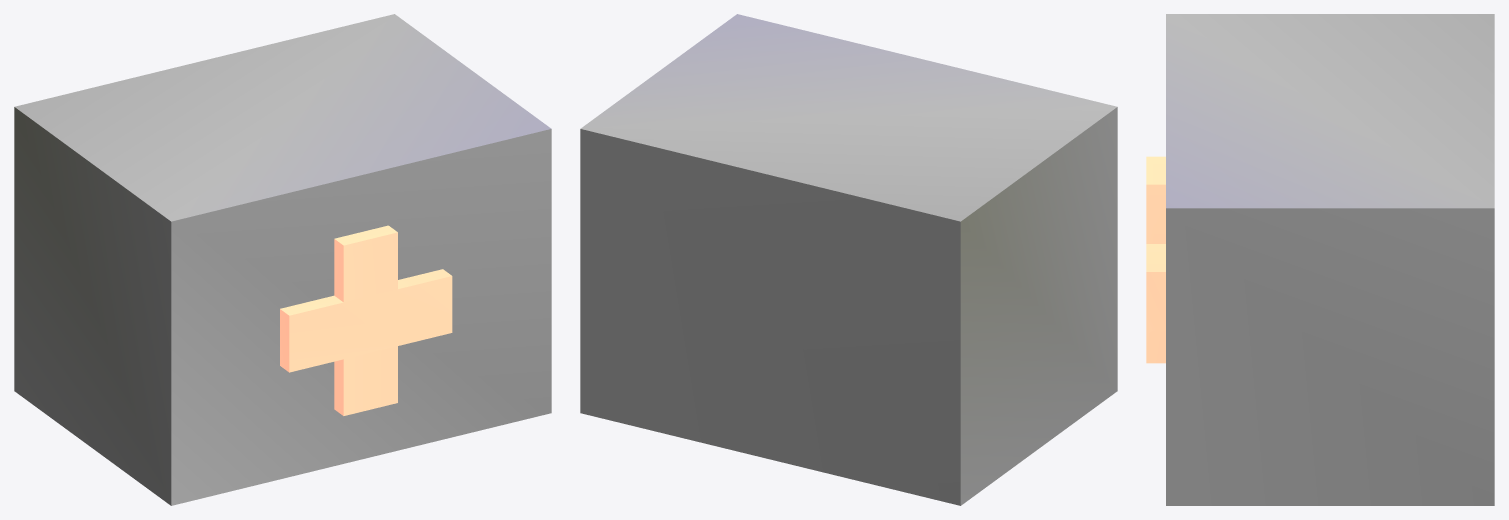
File: medkit.glb
The picture shows the model from 3 angles, left to right: view 1: azimuth 30°, elevation 25°; view 2: azimuth 150°, elevation 25°; view 3: azimuth 270°, elevation 25°; orthographic projection. The views are drawn at different scales.
Visible parts, largest first — view 1: medkit; view 2: medkit; view 3: medkit.
Part boxes in pixels (x1,y1,x2,y2): medkit: (14,14,551,505); medkit: (580,14,1117,505); medkit: (1146,14,1494,505).
Bounding box in the file's own units: 14 × 10 × 10.6.
